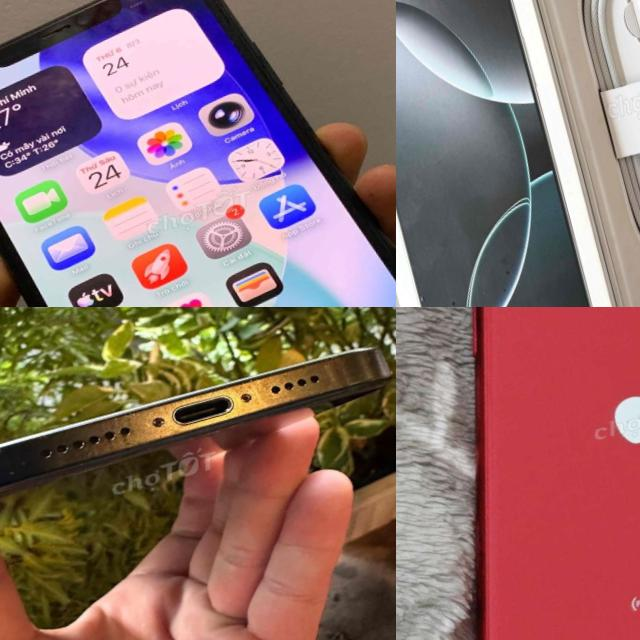gen_11: (0, 0, 396, 307), (396, 307, 640, 640)
gen_16: (0, 348, 390, 494)
scratch: (0, 428, 64, 548), (113, 392, 160, 442), (308, 357, 334, 382), (274, 359, 295, 386), (237, 367, 257, 393), (80, 443, 100, 468)
